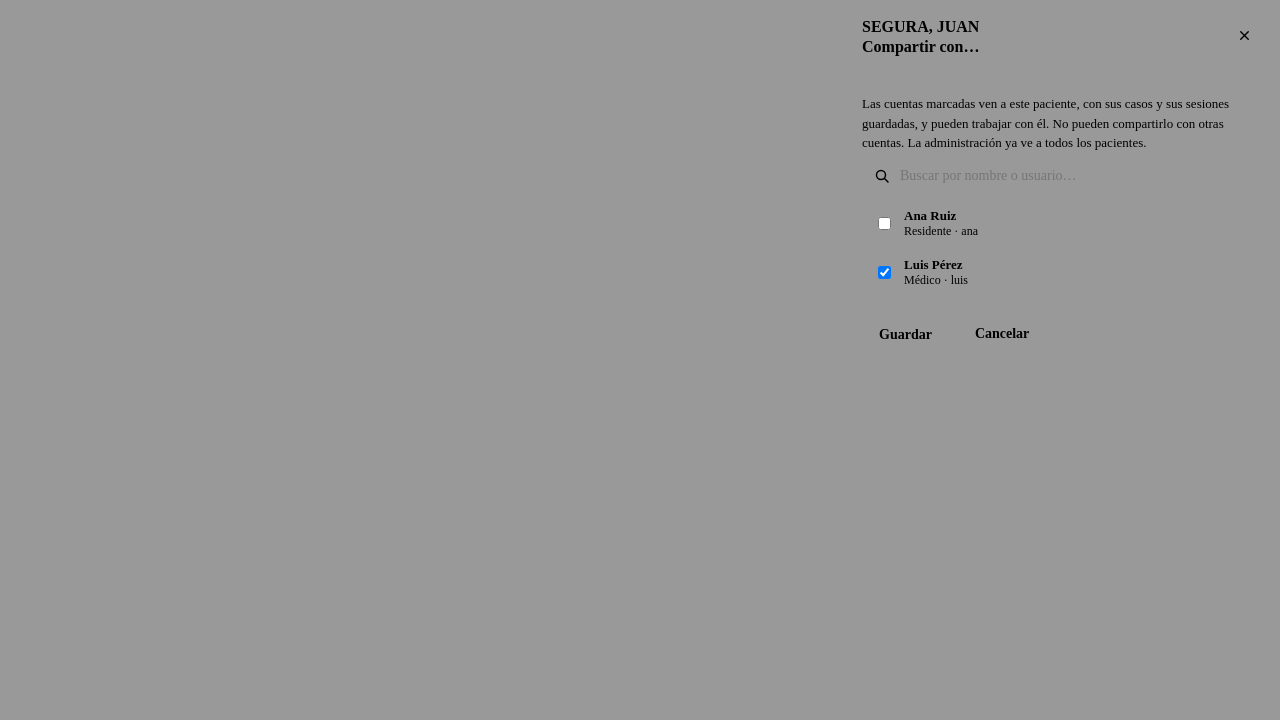
Test case: ShareSheet › un 403 del servidor se muestra con su texto
Expected: the checkbox labelled "Ana Ruiz Residente · ana" is shown, left=878, top=216, right=891, bottom=230
Click the button "Guardar".
click(905, 334)  # box left=862, top=326, right=949, bottom=344
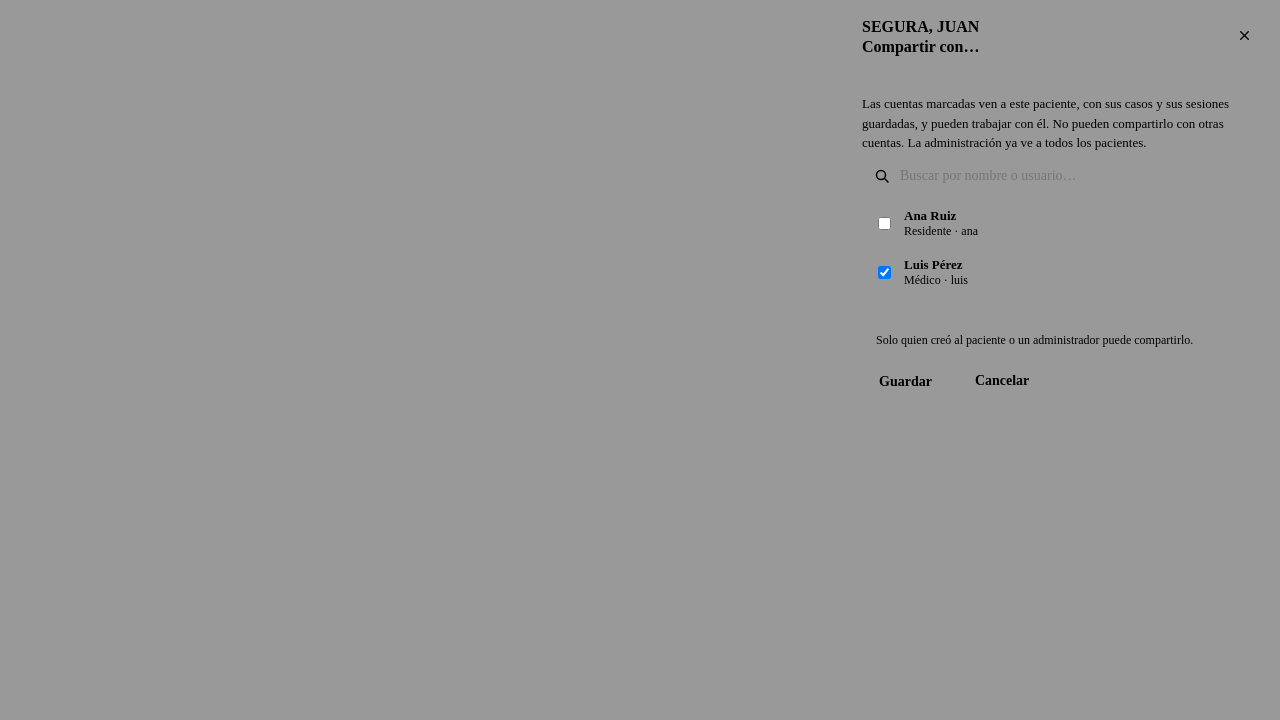
Expected: the text "Solo quien creó al paciente o un administrador puede compartirlo." is shown, left=876, top=332, right=1193, bottom=346
